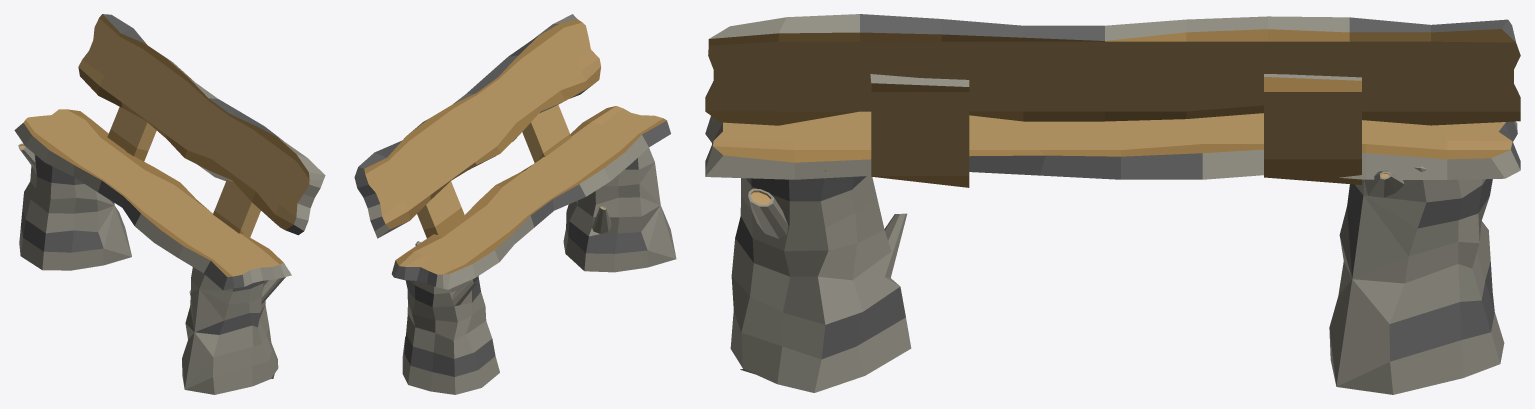
Rendered from bench_wooden.fbx.
The picture shows the model from 3 angles, left to right: view 1: azimuth 30°, elevation 25°; view 2: azimuth 150°, elevation 25°; view 3: azimuth 270°, elevation 25°; orthographic projection. The views are drawn at different scales.
Parts seen in each view (by area): view 1: plank_back, plank, left_trunk, right_trunk, back_hold; view 2: plank_back, plank, left_trunk, right_trunk, back_hold; view 3: plank_back, plank, left_trunk, right_trunk, back_hold.
Part boxes in pixels (left/top/right/bottom): plank_back: left=78, top=14, right=325, bottom=235; plank: left=14, top=109, right=291, bottom=290; left_trunk: left=182, top=267, right=289, bottom=394; right_trunk: left=18, top=143, right=131, bottom=270; back_hold: left=107, top=107, right=260, bottom=237; plank_back: left=354, top=14, right=600, bottom=238; plank: left=391, top=106, right=670, bottom=289; left_trunk: left=563, top=148, right=676, bottom=272; right_trunk: left=402, top=241, right=499, bottom=394; back_hold: left=417, top=105, right=571, bottom=238; plank_back: left=705, top=14, right=1520, bottom=125; plank: left=705, top=111, right=1520, bottom=179; left_trunk: left=730, top=170, right=911, bottom=392; right_trunk: left=1329, top=166, right=1504, bottom=394; back_hold: left=870, top=74, right=1361, bottom=187.
Size of the model in its own units: 1.31 by 2.12 by 4.02.
